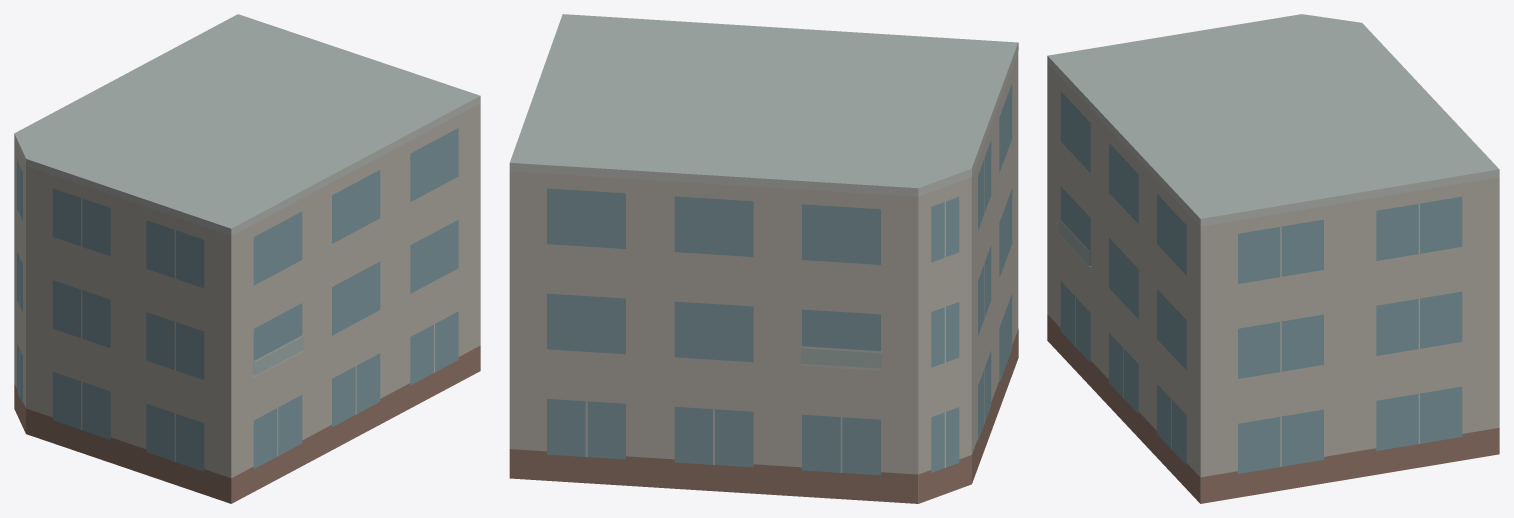
Rendered from survey-upis-32722165.glb.
The picture shows the model from 3 angles, left to right: view 1: azimuth 30°, elevation 25°; view 2: azimuth 150°, elevation 25°; view 3: azimuth 270°, elevation 25°; orthographic projection. The views are drawn at different scales.
Visible parts, largest first — view 1: survey-upis-32722165.tmp; view 2: survey-upis-32722165.tmp; view 3: survey-upis-32722165.tmp.
Part boxes in pixels (x1,y1,x2,y2): survey-upis-32722165.tmp: (14, 14, 480, 503); survey-upis-32722165.tmp: (509, 14, 1018, 503); survey-upis-32722165.tmp: (1047, 14, 1499, 503).
Size of the model in its own units: 14.13 by 9.15 by 13.17.
